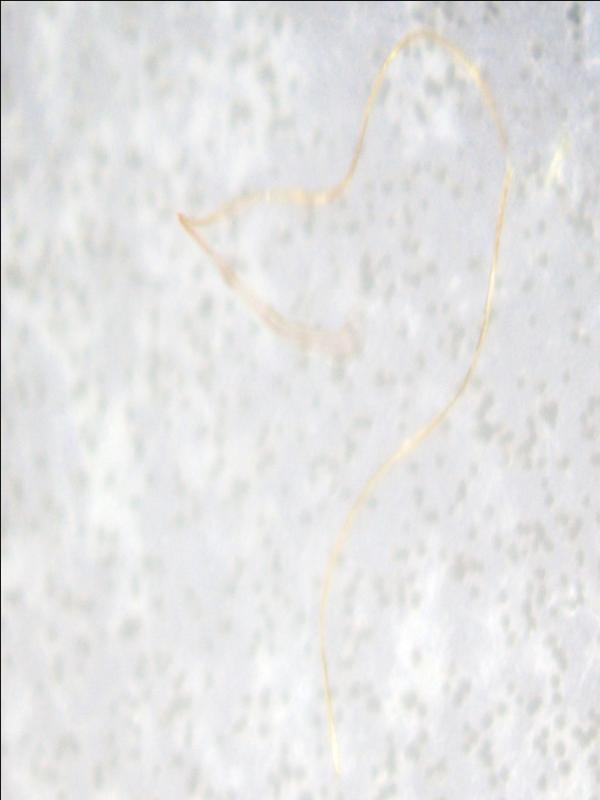microplastic: (175, 26, 514, 780)
